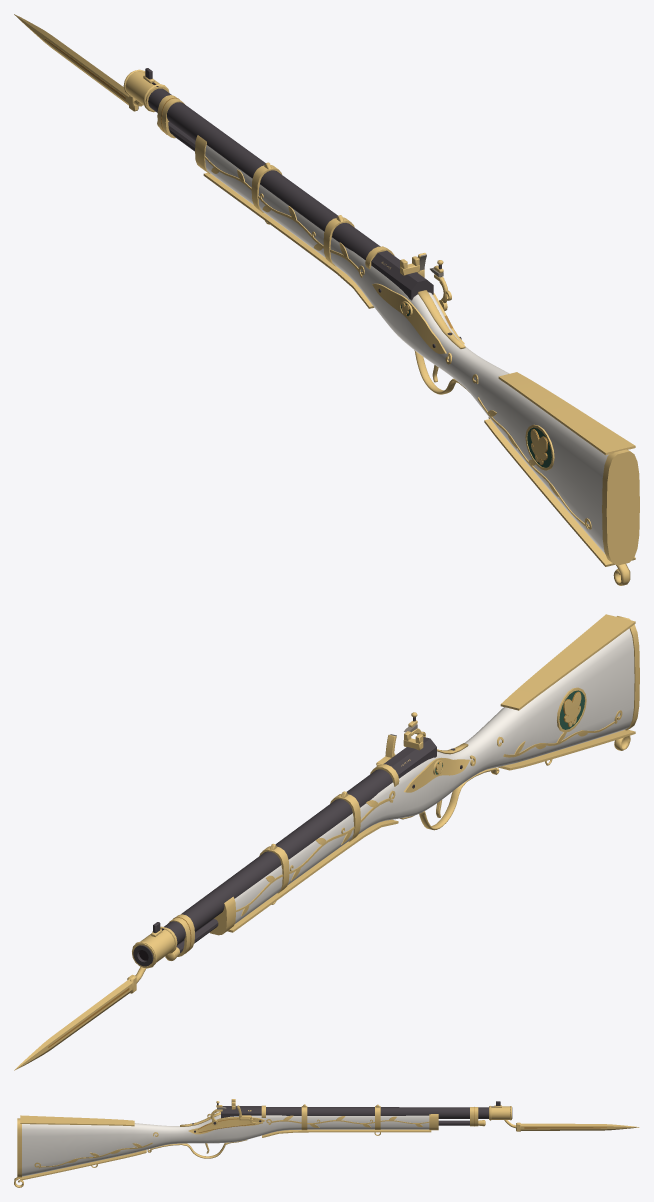
File: fairy_guard_musket.glb
The picture shows the model from 3 angles, top to bottom: view 1: azimuth 30°, elevation 25°; view 2: azimuth 150°, elevation 25°; view 3: azimuth 270°, elevation 25°; orthographic projection. The views are drawn at different scales.
Visible parts, largest first — view 1: body, body_inlay, bayonet; view 2: body, body_inlay, bayonet; view 3: body, body_inlay, bayonet, ramrod, bayonet_fine.
Boxes of the visible parts, x1,y1,x2,y2 form: body: (143, 68, 639, 585); body_inlay: (204, 156, 591, 529); bayonet: (14, 14, 169, 112); body: (133, 614, 639, 966); body_inlay: (236, 687, 622, 916); bayonet: (14, 926, 177, 1070); body: (14, 1099, 512, 1187); body_inlay: (34, 1115, 429, 1168); bayonet: (489, 1106, 639, 1131); ramrod: (438, 1120, 485, 1126); bayonet_fine: (491, 1106, 606, 1128).
Bounding box in the file's own units: 0.0474 × 0.2103 × 1.33.
